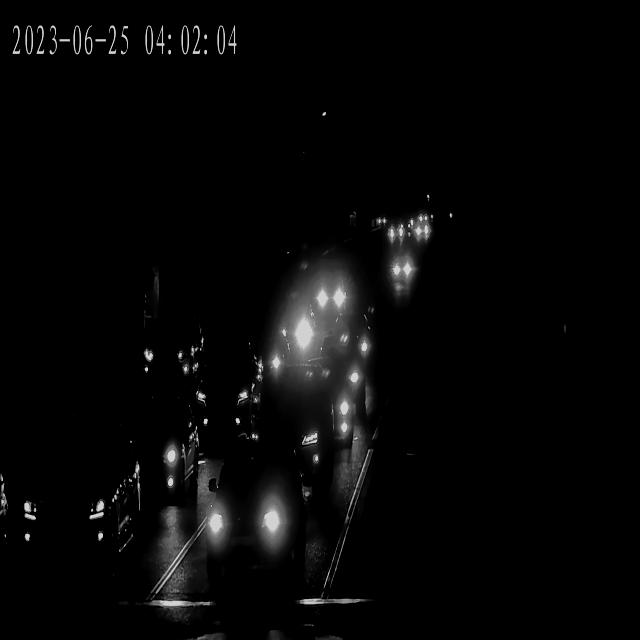Car: (2, 431, 144, 568), (196, 460, 304, 599), (102, 402, 198, 512), (250, 381, 334, 473), (302, 344, 372, 451), (187, 354, 261, 434), (144, 318, 206, 387), (258, 306, 320, 366), (334, 321, 381, 374), (310, 271, 355, 312), (391, 257, 418, 285), (388, 256, 414, 282), (411, 224, 432, 240), (386, 227, 404, 244), (413, 227, 432, 243), (374, 214, 390, 227)
